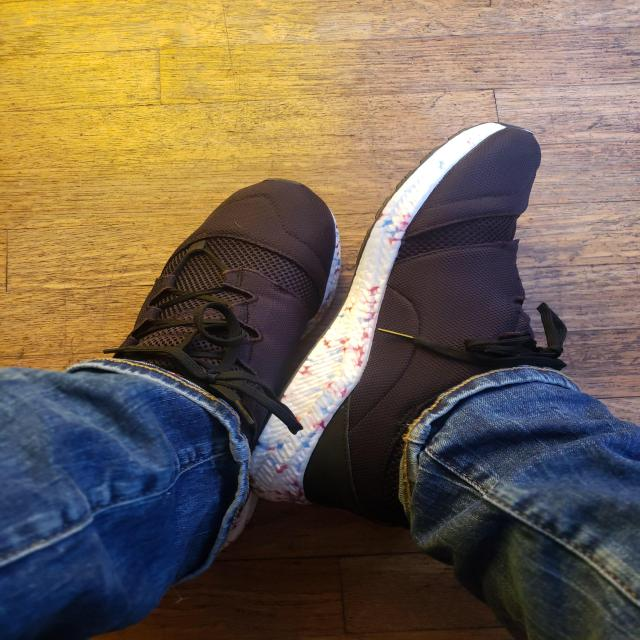shoe: (253, 116, 545, 517), (105, 165, 345, 468)
